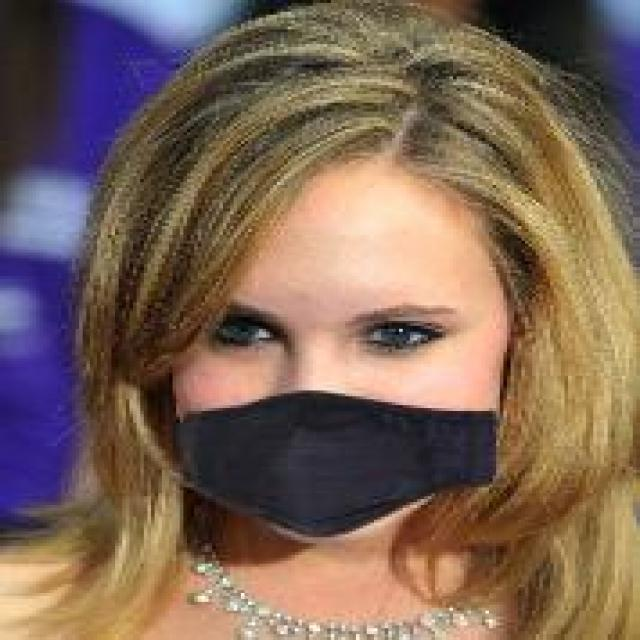mask: (119, 21, 554, 564)
